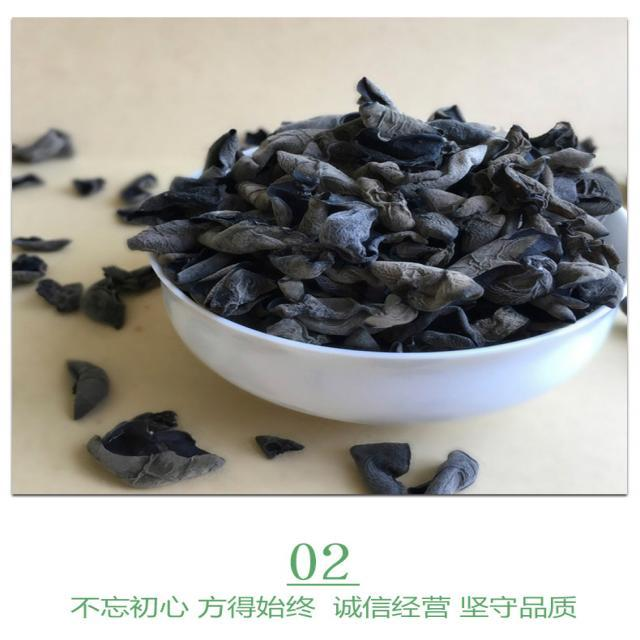Auricularia auricula: (125, 75, 638, 351), (9, 239, 161, 324), (79, 406, 225, 486), (355, 439, 490, 498), (70, 351, 114, 421)
